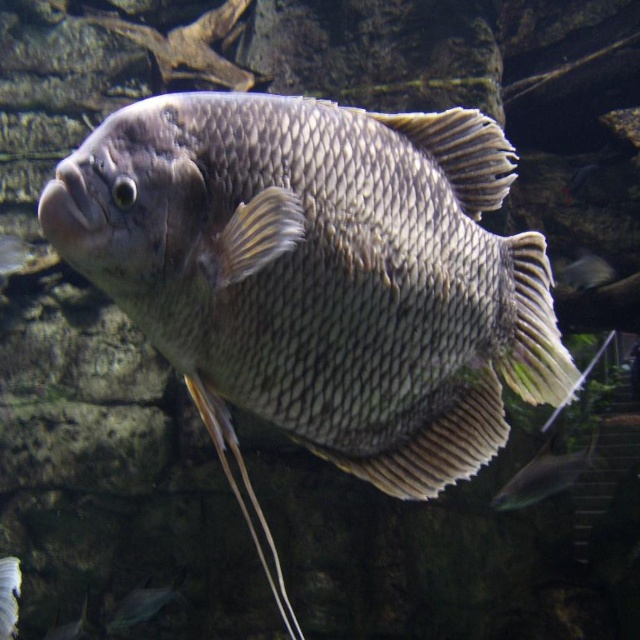Fish: (38, 91, 586, 640)
